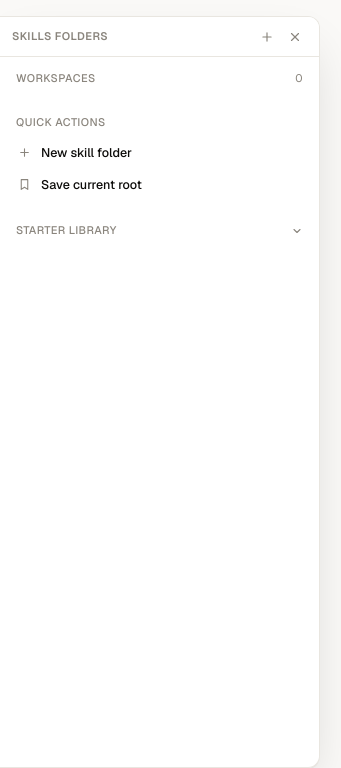
it: SkillsDrawer › drawer-add-manual button opens the add form
The width and height of the screenshot is (341, 768).
What coordinates should you click on to do the following:
click the button with test id "drawer-add-manual"
I would click on:
 (91, 184)
Its box is [8,169,311,201].
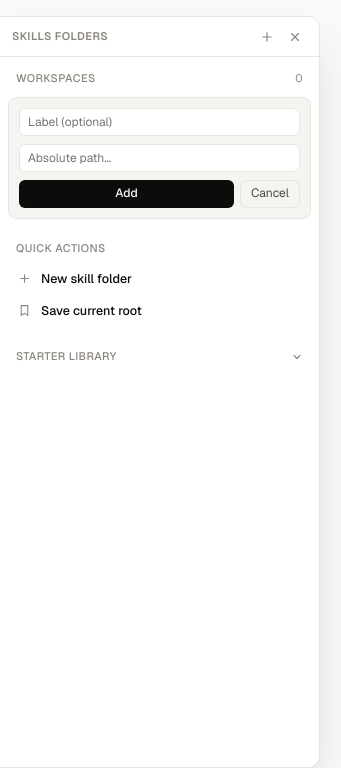
Result: the element with test id "skill-entry-form" is shown at [8,97,311,219]
